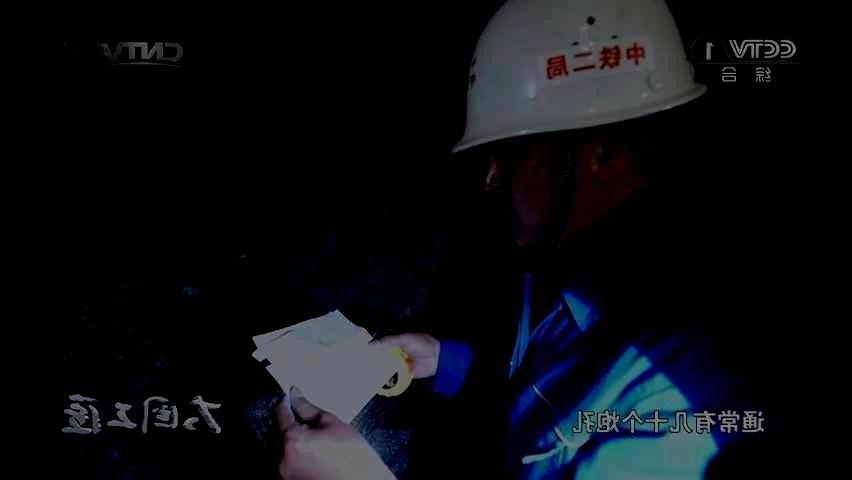helmet: (453, 1, 708, 249)
